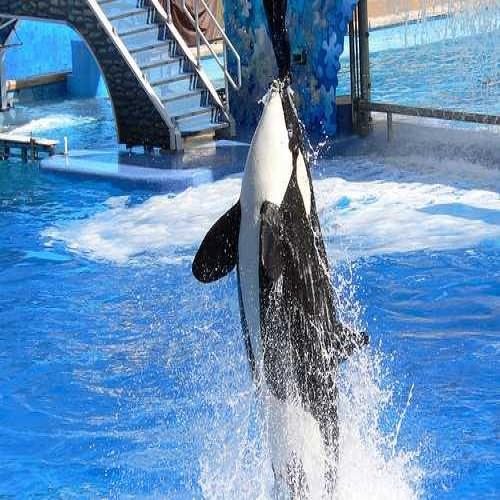killer_whale-endangered: (179, 61, 381, 500)
